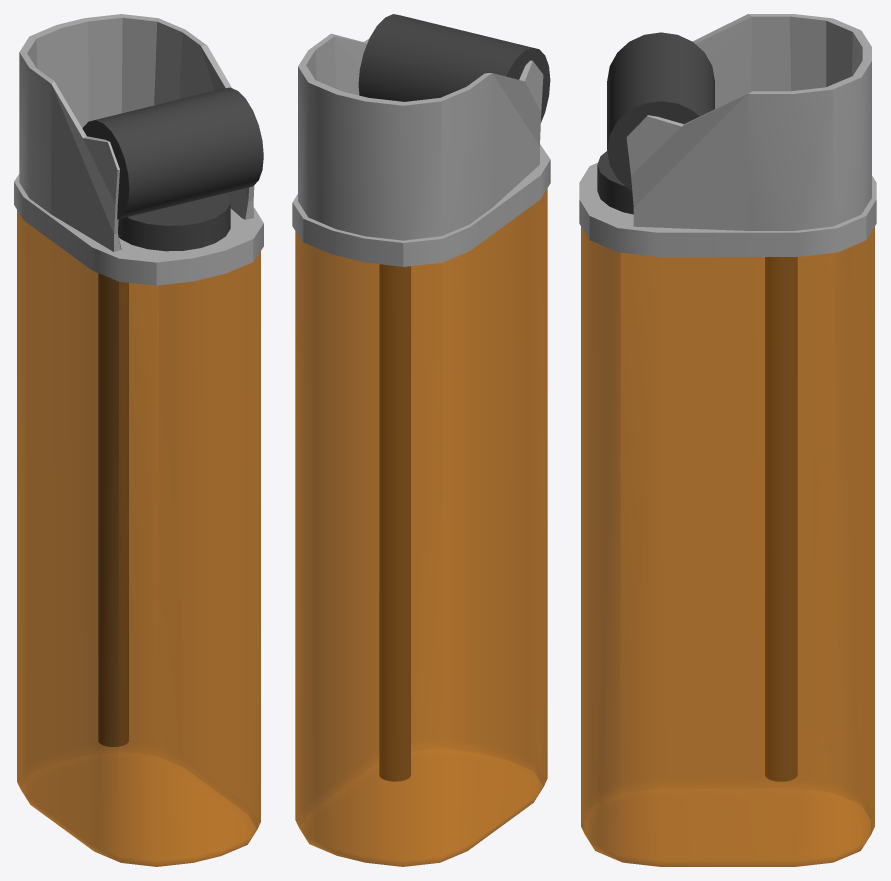
Rendered from Lighter.fbx.
3 renders of one model, left to right at view 1: azimuth 30°, elevation 25°; view 2: azimuth 150°, elevation 25°; view 3: azimuth 270°, elevation 25°, orthographic. The views are drawn at different scales.
Visible parts, largest first — view 1: pCube1, pCube2, pCylinder1, pCylinder3, pCube3, pCylinder2; view 2: pCube1, pCube2, pCylinder3, pCylinder1, pCube3; view 3: pCube1, pCube2, pCylinder3, pCube3, pCylinder1, pCylinder2.
Part boxes in pixels (x1,y1,x2,y2): pCube1: (17, 210, 260, 866); pCube2: (19, 14, 254, 252); pCylinder1: (82, 87, 263, 219); pCylinder3: (98, 273, 128, 746); pCube3: (14, 174, 263, 285); pCylinder2: (118, 193, 230, 251); pCube1: (295, 188, 547, 866); pCube2: (298, 33, 543, 240); pCylinder3: (379, 264, 410, 781); pCylinder1: (358, 14, 550, 122); pCube3: (292, 144, 550, 266); pCube1: (581, 226, 874, 866); pCube2: (626, 14, 871, 230); pCylinder3: (765, 257, 797, 781); pCube3: (579, 162, 876, 256); pCylinder1: (607, 32, 714, 190); pCylinder2: (597, 151, 633, 214).
Size of the model in its own units: 1.02 by 4.44 by 1.54.
